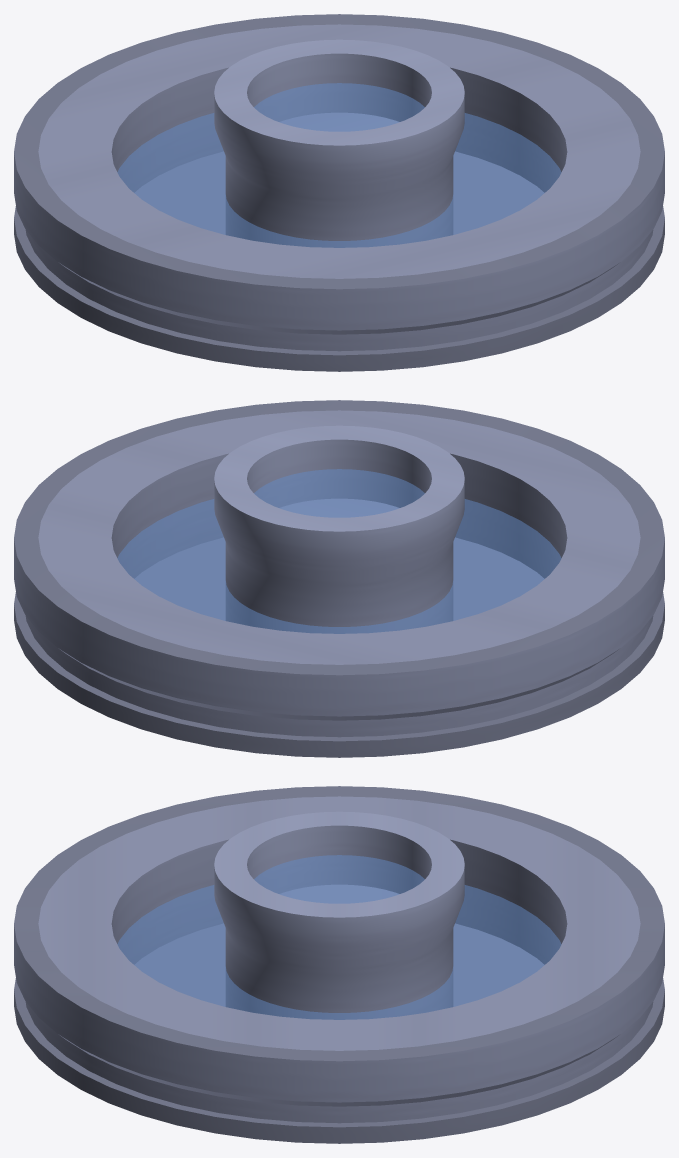
Rendered from fountainRoundDetail.fbx.
3 renders of one model, top to bottom at view 1: azimuth 30°, elevation 25°; view 2: azimuth 150°, elevation 25°; view 3: azimuth 270°, elevation 25°, orthographic.
Parts seen in each view (by area): view 1: fountainRoundDetail; view 2: fountainRoundDetail; view 3: fountainRoundDetail.
Boxes of the visible parts, x1,y1,x2,y2 form: fountainRoundDetail: (14,14,664,371); fountainRoundDetail: (14,400,664,757); fountainRoundDetail: (14,786,664,1143).
Bounding box in the file's own units: 2 × 2 × 0.48.
